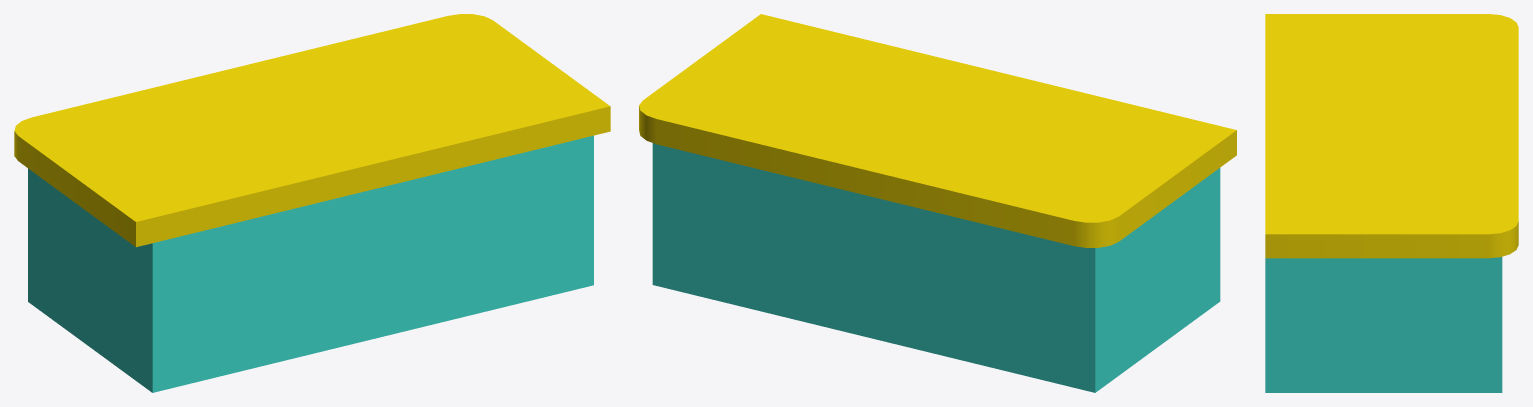
Rendered from TableB4_geo.fbx.
3 renders of one model, left to right at view 1: azimuth 30°, elevation 25°; view 2: azimuth 150°, elevation 25°; view 3: azimuth 270°, elevation 25°, orthographic. The views are drawn at different scales.
Visible parts, largest first — view 1: TableB4_geo; view 2: TableB4_geo; view 3: TableB4_geo.
Part boxes in pixels (box(x1,y1,x2,y2)): TableB4_geo: box(14, 14, 610, 392); TableB4_geo: box(639, 14, 1236, 392); TableB4_geo: box(1265, 14, 1518, 392).
Bounding box in the file's own units: 1.93 × 0.9396 × 0.6803.
